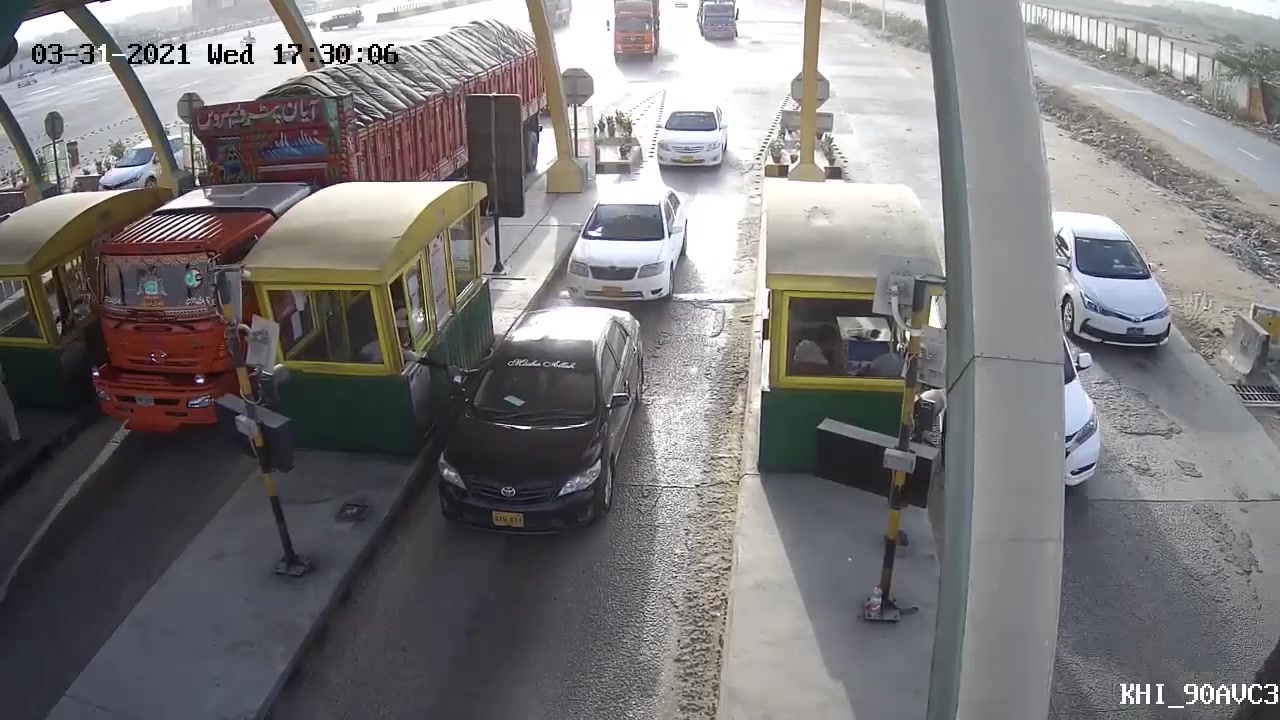F1: (435, 304, 644, 570), (565, 183, 687, 306)
